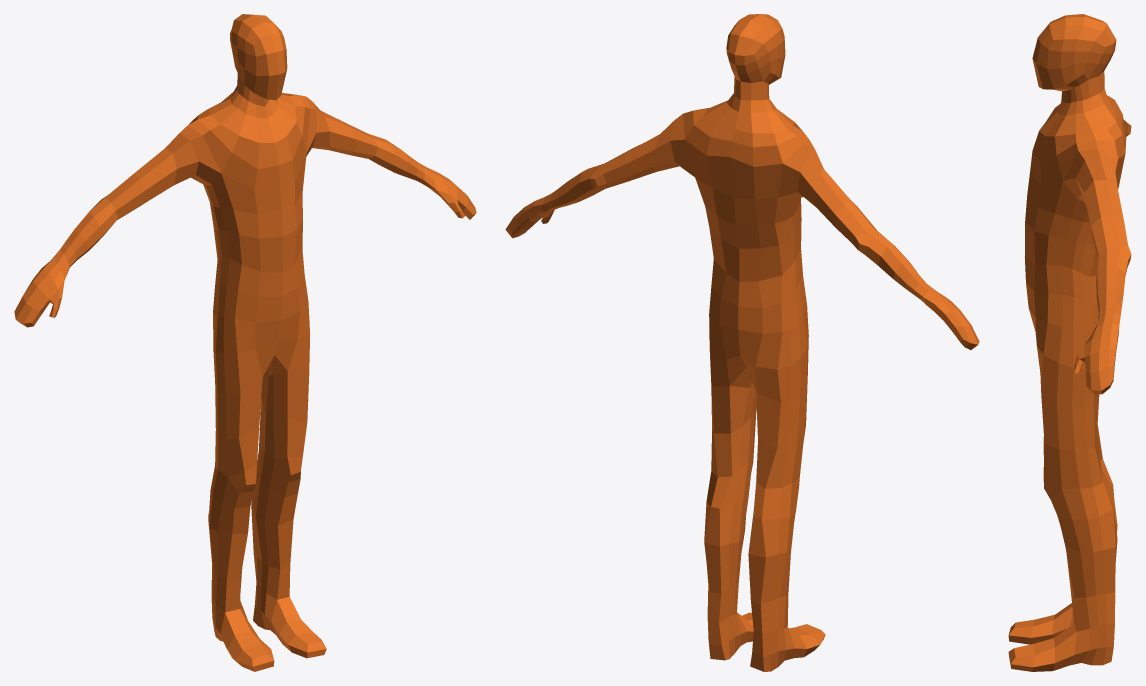
File: dummy170.glb
3 renders of one model, left to right at view 1: azimuth 30°, elevation 25°; view 2: azimuth 150°, elevation 25°; view 3: azimuth 270°, elevation 25°, orthographic. The views are drawn at different scales.
Visible parts, largest first — view 1: dummy170; view 2: dummy170; view 3: dummy170.
Boxes of the visible parts, x1,y1,x2,y2 form: dummy170: (14, 14, 476, 671); dummy170: (505, 14, 979, 671); dummy170: (1008, 14, 1131, 671).
Size of the model in its own units: 1.31 by 1.7 by 0.2971.
